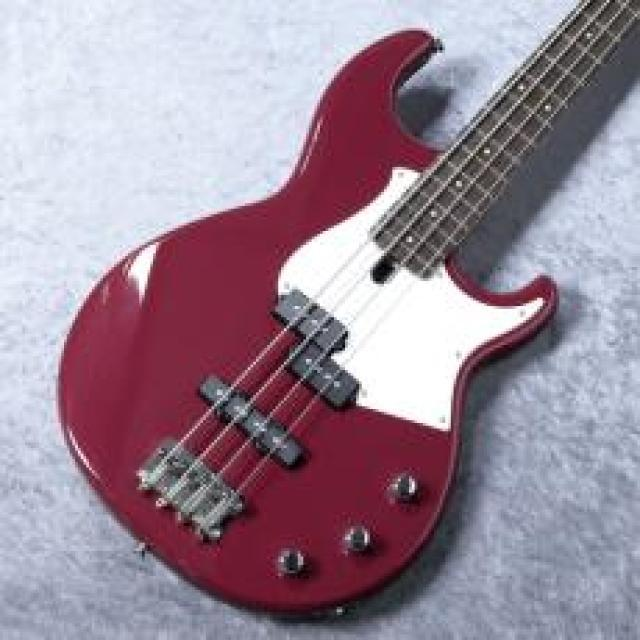bass: (59, 0, 639, 612)
